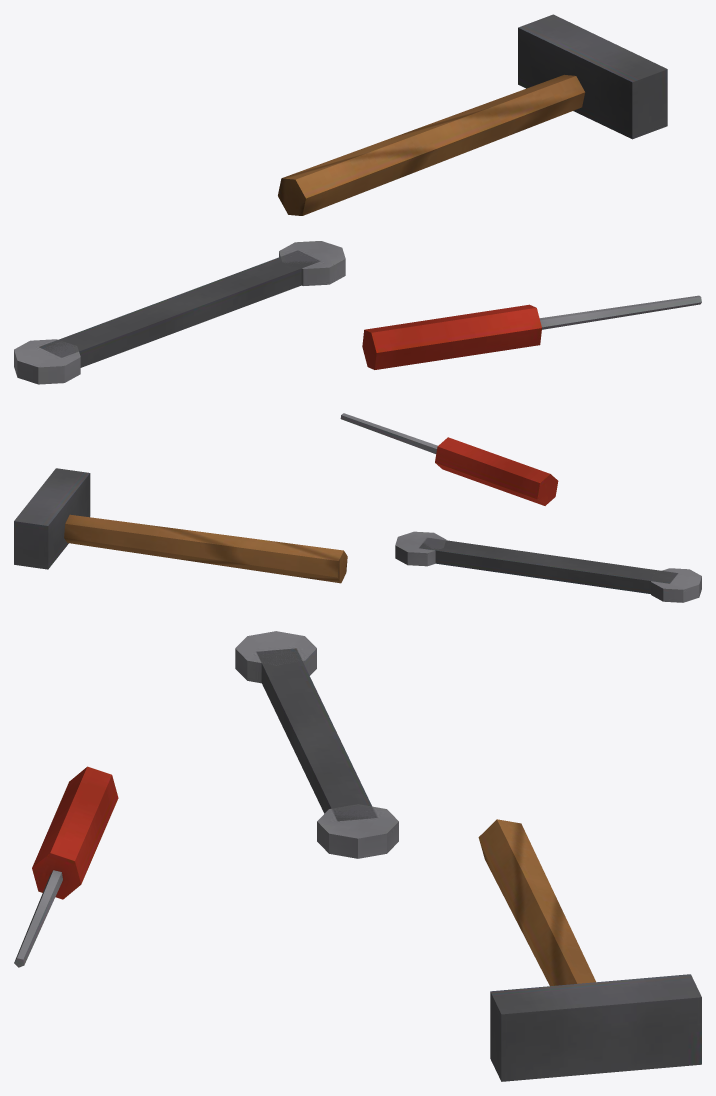
The model's file is tools_table_idle.glb.
3 renders of one model, top to bottom at view 1: azimuth 30°, elevation 25°; view 2: azimuth 150°, elevation 25°; view 3: azimuth 270°, elevation 25°, orthographic. The views are drawn at different scales.
Visible parts, largest first — view 1: tools_table; view 2: tools_table; view 3: tools_table.
Part boxes in pixels (box(x1,y1,x2,y2)): tools_table: box(14, 14, 701, 384); tools_table: box(14, 413, 701, 602); tools_table: box(14, 631, 701, 1081).
Size of the model in its own units: 0.5476 by 0.0416 by 0.3698.
Materials: 1 (1 with a texture image).
